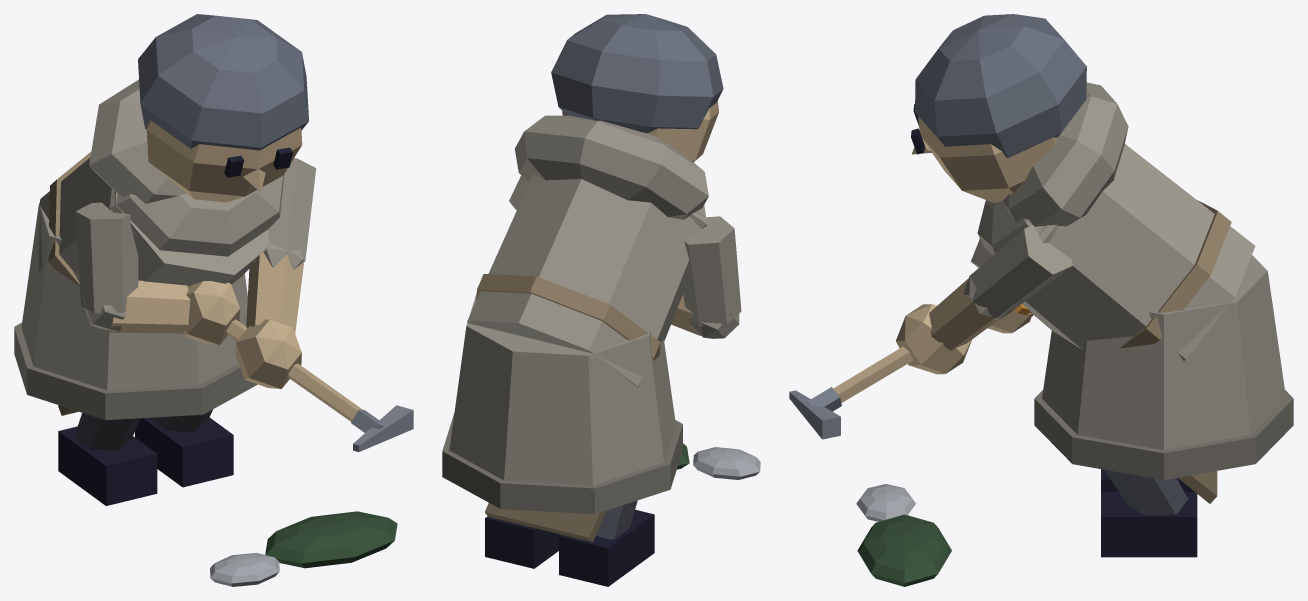
Rendered from hild_scraping.glb.
3 views of the same model, side by side, from view 1: azimuth 30°, elevation 25°; view 2: azimuth 150°, elevation 25°; view 3: azimuth 270°, elevation 25° (orthographic). The views are drawn at different scales.
Parts seen in each view (by area): view 1: LegL, Head, Torso, ArmR, ArmL, Stool, LegR; view 2: Torso, LegL, Head, ArmR, LegR, Stool; view 3: LegL, Torso, Head, ArmL, Stool, ArmR.
Boxes of the visible parts, box(x1,y1,x2,y2) form: LegL: box(14, 202, 257, 487); Head: box(138, 14, 308, 202); Torso: box(38, 79, 284, 415); ArmR: box(75, 202, 413, 451); ArmL: box(235, 158, 316, 388); Stool: box(210, 511, 397, 586); LegR: box(58, 413, 157, 505); Torso: box(467, 115, 708, 542); LegL: box(442, 294, 682, 568); Head: box(551, 14, 723, 162); ArmR: box(671, 216, 741, 338); LegR: box(559, 500, 654, 586); Stool: box(677, 443, 760, 479); LegL: box(1034, 255, 1293, 557); Torso: box(971, 82, 1255, 503); Head: box(911, 14, 1086, 202); ArmL: box(896, 225, 1072, 374); Stool: box(856, 484, 951, 586); ArmR: box(789, 309, 1031, 439).
Size of the model in its own units: 0.7674 by 1.53 by 1.36.
